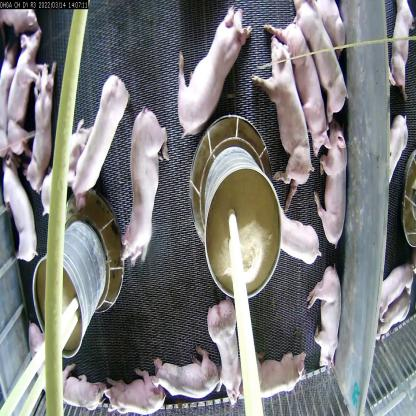Pig: (168, 0, 258, 147), (118, 109, 173, 285), (273, 13, 334, 163), (257, 40, 307, 195), (2, 36, 45, 166), (73, 73, 120, 186), (316, 119, 353, 257), (296, 0, 340, 111), (149, 332, 213, 401), (7, 161, 46, 272), (238, 344, 298, 411), (268, 202, 327, 268), (27, 70, 61, 178), (311, 267, 344, 370), (204, 308, 245, 385), (56, 361, 106, 416), (108, 378, 160, 416)
